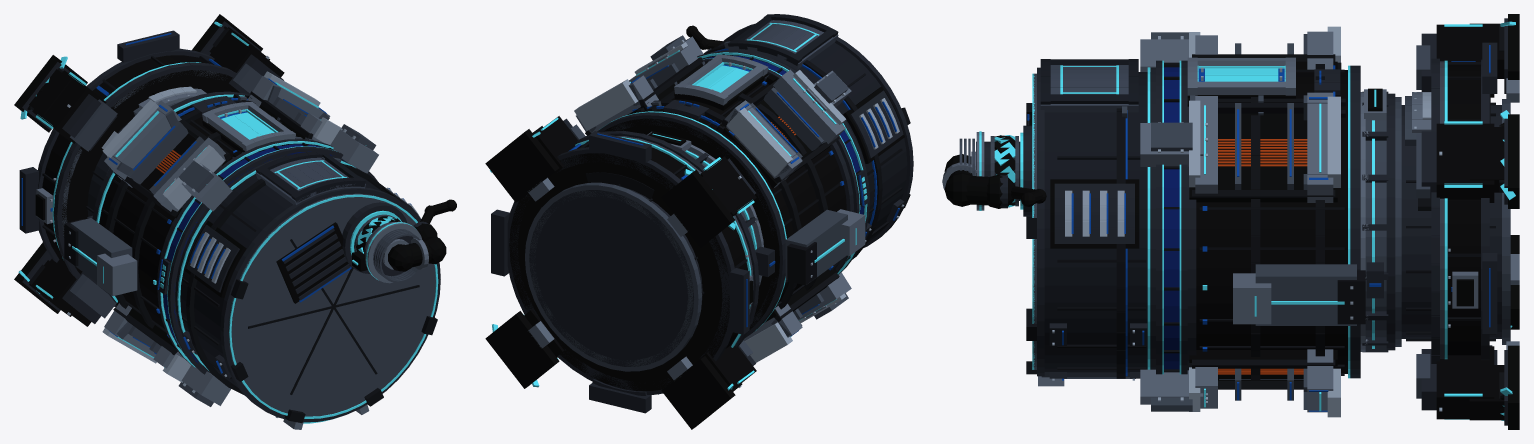
File: drum_rig.obj
3 renders of one model, left to right at view 1: azimuth 30°, elevation 25°; view 2: azimuth 150°, elevation 25°; view 3: azimuth 270°, elevation 25°, orthographic. The views are drawn at different scales.
Parts seen in each view (by area): view 1: cp_top, sk_body, cp_body, bd_shell, cp_top_r, bn_lip_4125, bd_lug1_a, fp1_brb, cp_top_g_g, cp_top_gr, sk_lip_b, bd_lug1_b (+49 smaller); view 2: ld_body, sk_body, bd_shell, ld_f_b, sk_lip_b, cp_body, bd_rim_b, leg1_f, leg3_f, leg0_f, leg2_f, bd_lug1_a (+42 smaller); view 3: cp_body, bd_shell, ld_body, sk_body, fp0_back, bd_lug0_a, bn_body, leg2_a, col_body, leg0_a, bd_rim_b, col_dn (+73 smaller).
Boxes of the visible parts, x1=… form: cp_top: x1=228, y1=193, x2=435, y2=416; sk_body: x1=42, y1=55, x2=238, y2=270; cp_body: x1=180, y1=174, x2=381, y2=387; bd_shell: x1=99, y1=98, x2=235, y2=328; cp_top_r: x1=220, y1=187, x2=440, y2=422; bn_lip_4125: x1=167, y1=146, x2=378, y2=374; bd_lug1_a: x1=70, y1=218, x2=132, y2=281; fp1_brb: x1=104, y1=100, x2=181, y2=187; cp_top_g_g: x1=229, y1=194, x2=438, y2=418; cp_top_gr: x1=276, y1=222, x2=351, y2=303; sk_lip_b: x1=38, y1=48, x2=214, y2=262; bd_lug1_b: x1=97, y1=253, x2=137, y2=296; ld_body: x1=529, y1=186, x2=702, y2=366; sk_body: x1=509, y1=144, x2=747, y2=390; bd_shell: x1=603, y1=83, x2=846, y2=331; ld_f_b: x1=525, y1=182, x2=701, y2=371; sk_lip_b: x1=507, y1=147, x2=734, y2=394; cp_body: x1=723, y1=33, x2=907, y2=241; bd_rim_b: x1=597, y1=112, x2=785, y2=337; leg1_f: x1=661, y1=169, x2=735, y2=247; leg3_f: x1=661, y1=356, x2=735, y2=429; leg0_f: x1=485, y1=129, x2=559, y2=202; leg2_f: x1=485, y1=311, x2=559, y2=388; bd_lug1_a: x1=785, y1=209, x2=847, y2=283; cp_body: x1=1044, y1=72, x2=1150, y2=371; bd_shell: x1=1196, y1=70, x2=1347, y2=373; ld_body: x1=1401, y1=105, x2=1501, y2=338; sk_body: x1=1444, y1=64, x2=1480, y2=355; fp0_back: x1=1189, y1=113, x2=1337, y2=202; bd_lug0_a: x1=1255, y1=264, x2=1356, y2=325; bn_body: x1=1164, y1=67, x2=1179, y2=369; leg2_a: x1=1436, y1=346, x2=1494, y2=419; col_body: x1=1365, y1=120, x2=1386, y2=345; leg0_a: x1=1436, y1=123, x2=1494, y2=202; bd_rim_b: x1=1350, y1=65, x2=1360, y2=378; col_dn: x1=1386, y1=93, x2=1395, y2=350.
Size of the model in its own units: 4.57 by 4.13 by 6.61.
